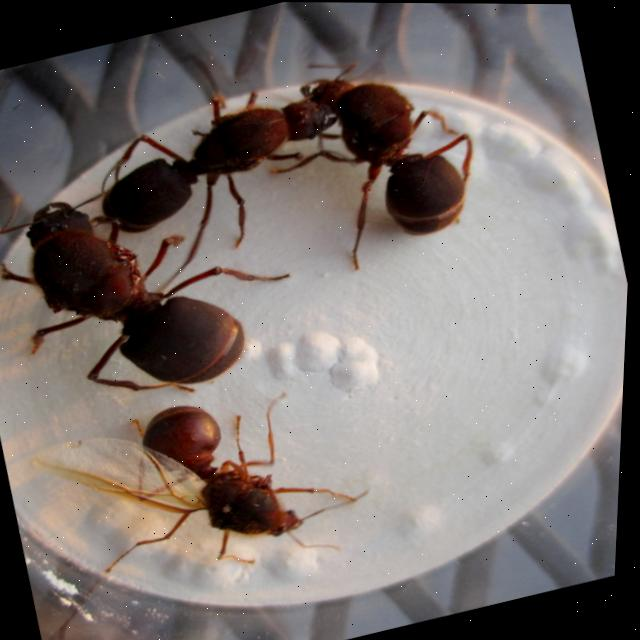Alive-Female-Dealate: (0, 130, 320, 434), (81, 63, 374, 303), (246, 27, 502, 286)
Alive-Male-Alate: (22, 361, 393, 621)
